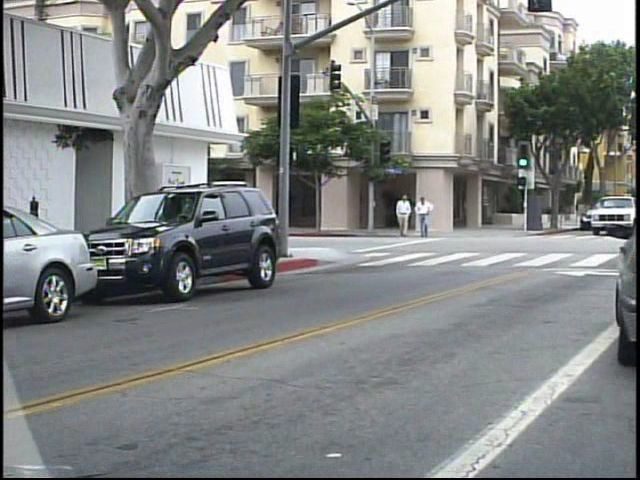person: (412, 192, 434, 242), (390, 190, 409, 243)
